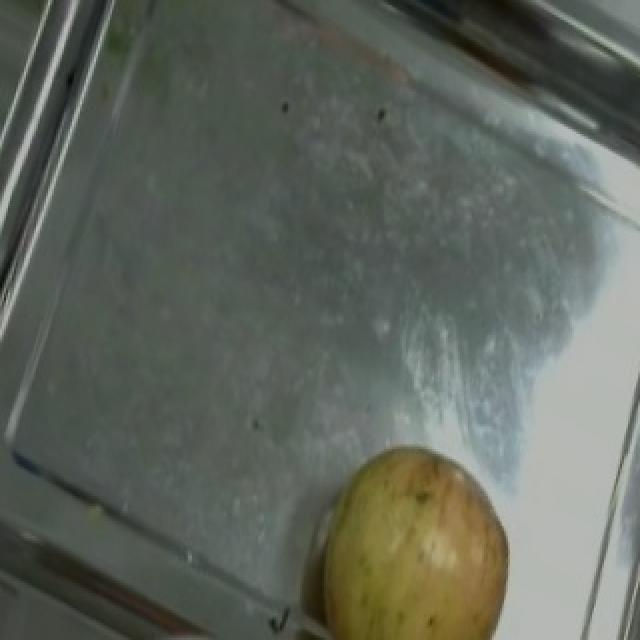fruit: (274, 417, 538, 638)
